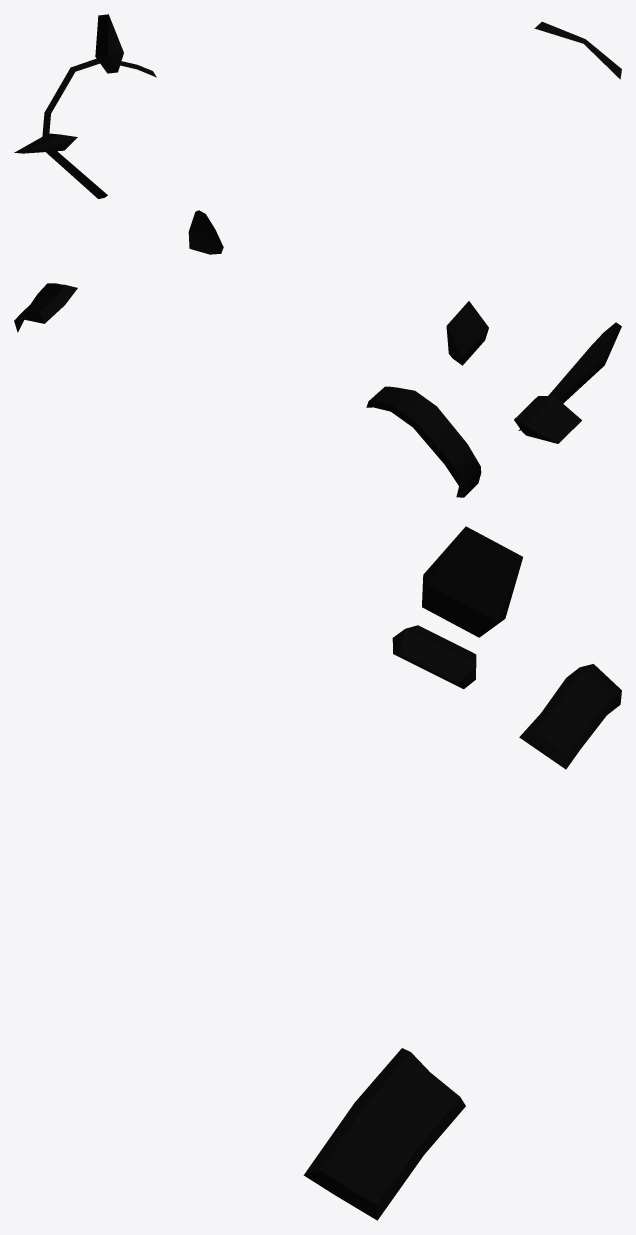
File: ama_ship_wreck_01_07.glb
3 views of the same model, one above another, from view 1: azimuth 30°, elevation 25°; view 2: azimuth 150°, elevation 25°; view 3: azimuth 270°, elevation 25° (orthographic). The views are drawn at different scales.
Visible parts, largest first — view 1: ama_ship_wreck_01_07_LOD0; view 2: ama_ship_wreck_01_07_LOD0; view 3: ama_ship_wreck_01_07_LOD0.
Part boxes in pixels (bbox=[...]): ama_ship_wreck_01_07_LOD0: bbox=[14, 14, 621, 254]; ama_ship_wreck_01_07_LOD0: bbox=[14, 283, 621, 497]; ama_ship_wreck_01_07_LOD0: bbox=[303, 526, 621, 1220].
Size of what is drawn, in the model's own units: 4.28 by 1.35 by 2.24.
Materials: 1 (1 with a texture image).
